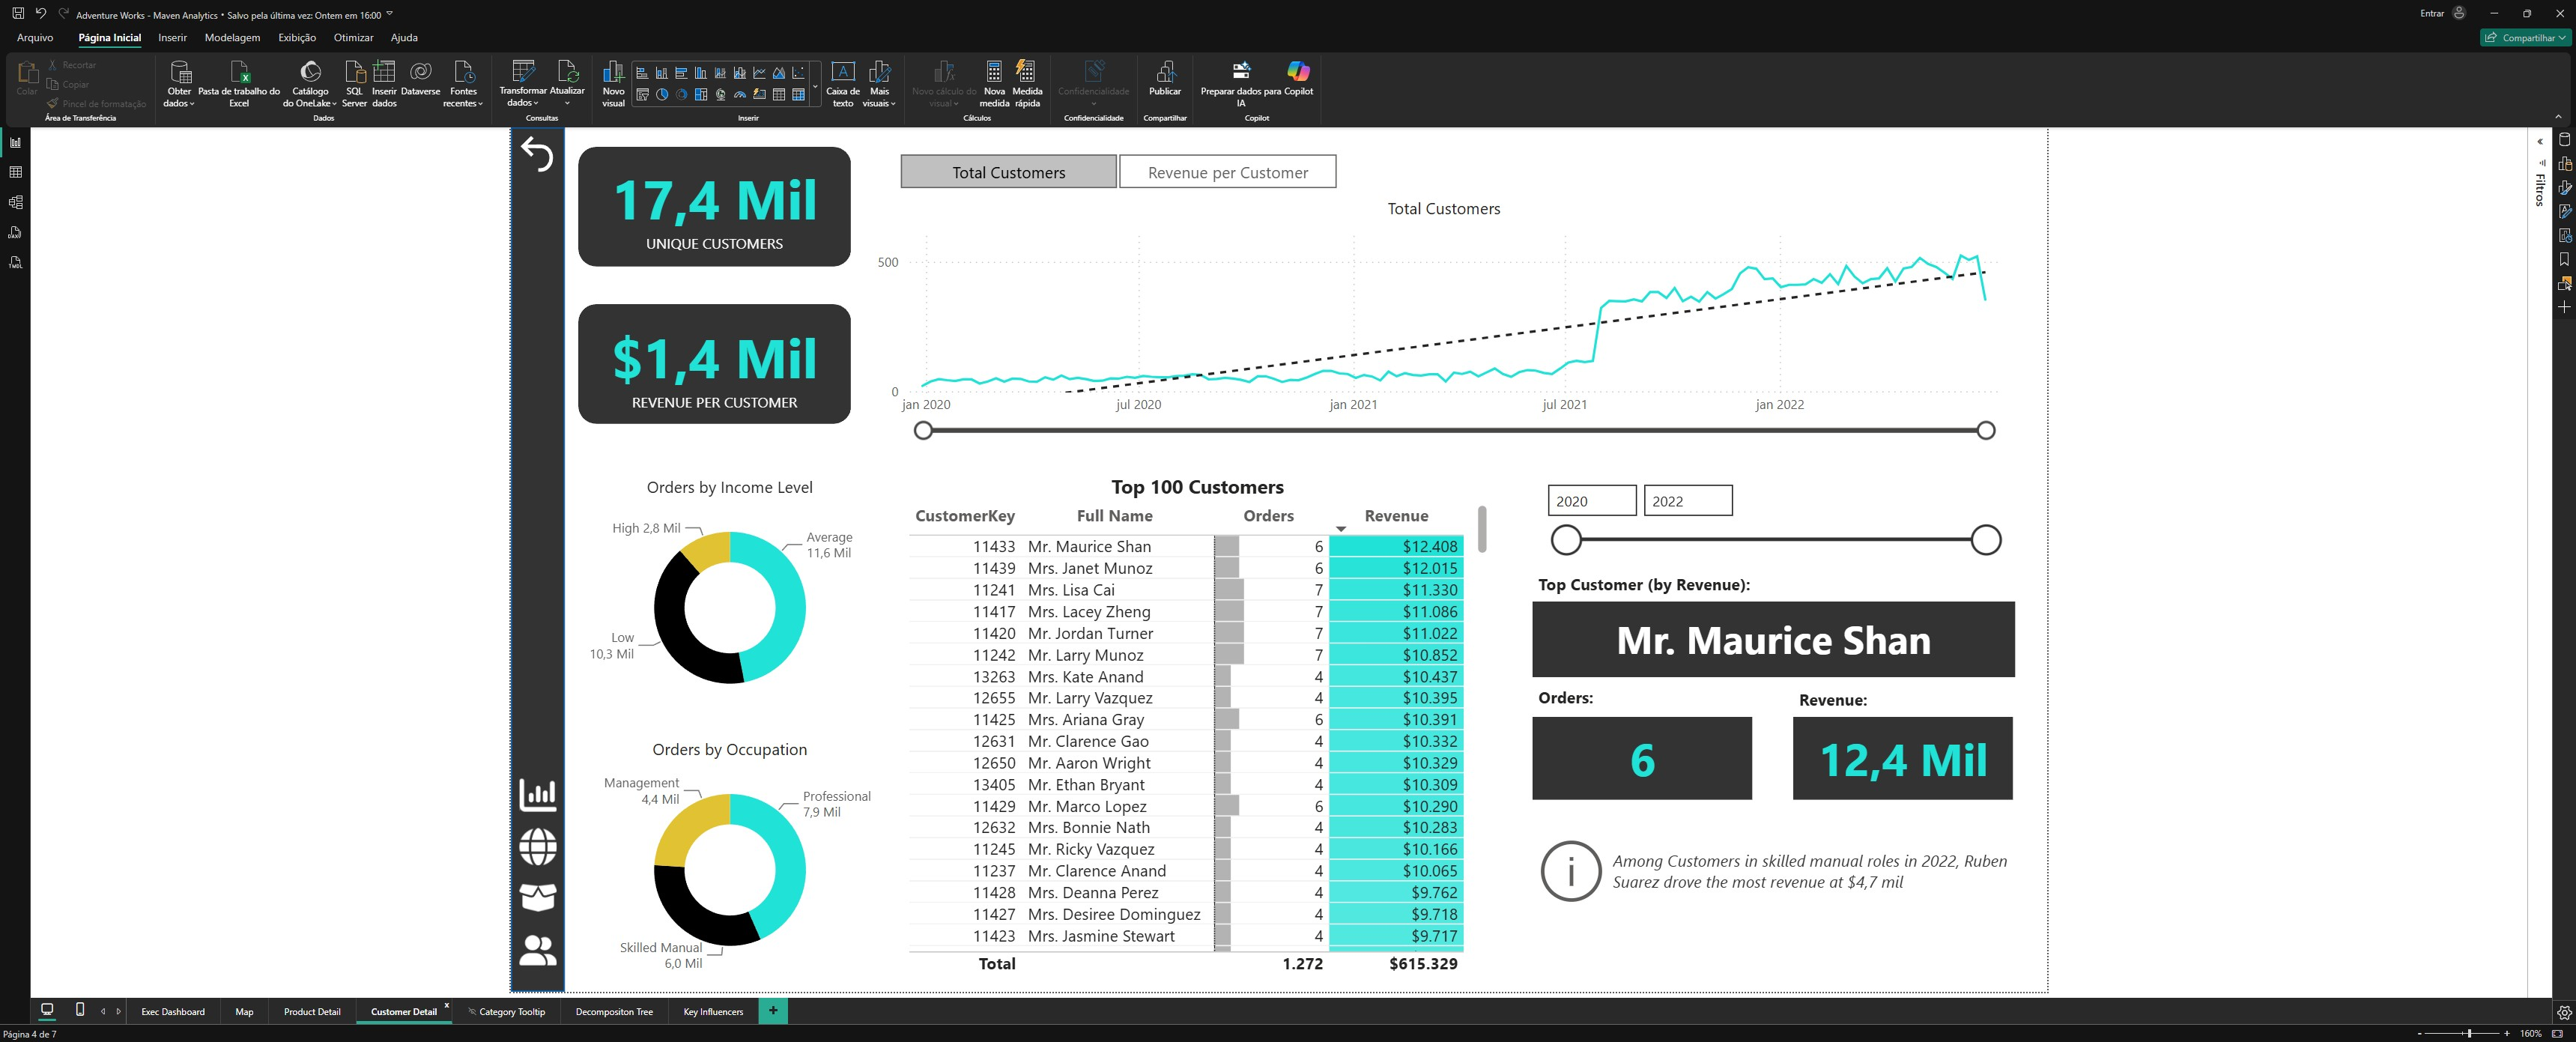

This screenshot's page, from the dashboard's own definition file:
{"tool":"powerbi","page":{"name":"Customer Detail","canvas":[1280,720],"ordinal":3},"visuals":[{"type":"shape","box":[55.9,16,227.4,99.8],"z":0},{"type":"actionButton","box":[3,536.7,42.4,39.3],"z":0,"group":"g1"},{"type":"shape","box":[55.9,147.2,227.4,99.8],"z":1000},{"type":"actionButton","box":[3,579.6,42.4,39.3],"z":1000,"group":"g1"},{"type":"card","fields":{"Values":["Measure Table (Inserir).Total Customers"]},"box":[55.9,16,227.4,99.8],"z":2000},{"type":"actionButton","box":[3,622.5,42.4,39.3],"z":2000,"group":"g1"},{"type":"shape","box":[0,0,45,720],"z":3000},{"type":"actionButton","box":[3,665.8,42.4,39.3],"z":3000,"group":"g1"},{"type":"card","fields":{"Values":["Measure Table (Inserir).Average Revenue per Customer"]},"box":[55.9,148.2,227.4,99.8],"z":4000},{"type":"lineChart","fields":{"Category":["Calendar Lookup.Ano Hierarquia.Ano","Calendar Lookup.Ano Hierarquia.Início do Mês","Calendar Lookup.Ano Hierarquia.Início da Semana","Calendar Lookup.Ano Hierarquia.Date"],"Y":["Measure Table (Inserir).Total Customers"]},"box":[298.8,57.6,955.3,207.1],"z":5000},{"type":"donutChart","title":"Orders by Income Level","fields":{"Category":["Customer Lookup.Income Level"],"Y":["Measure Table (Inserir).Total Orders"]},"box":[55,290.7,255.4,200.4],"z":6000},{"type":"donutChart","title":"Orders by Occupation","fields":{"Category":["Customer Lookup.Occupation"],"Y":["Measure Table (Inserir).Total Orders"]},"box":[55,509.4,255.4,200.4],"z":7000},{"type":"tableEx","title":"Top 100 Customers","fields":{"Values":["Customer Lookup.CustomerKey","Customer Lookup.Full Name","Measure Table (Inserir).Total Orders","Measure Table (Inserir).Total Revenue"]},"box":[325.9,288.2,492.9,421.2],"z":8000},{"type":"card","fields":{"Values":["Measure Table (Inserir).Full Name Customer Detail"]},"box":[850.8,395.1,402.1,63.5],"z":9000},{"type":"card","fields":{"Values":["Measure Table (Inserir).Total Revenue (Customer Detail)"]},"box":[1068.1,491,183.4,69.1],"z":10000},{"type":"card","fields":{"Values":["Measure Table (Inserir).Total Orders (Customer Detail)"]},"box":[850.8,491,183.4,69.1],"z":11000},{"type":"textbox","box":[850.8,366.8,195.3,38.8],"z":12000},{"type":"textbox","box":[1068.1,462.8,183.4,39.5],"z":13000},{"type":"textbox","box":[850.8,461.4,183.4,39.5],"z":14000},{"type":"slicer","fields":{"Values":["Calendar Lookup.Ano"]},"box":[850.8,287.8,399.3,79],"z":15000},{"type":"actionButton","box":[850.8,587,428.9,64.9],"z":16000},{"type":"actionButton","box":[2.2,2.2,42.3,40.1],"z":17000},{"type":"group","id":"g1","title":"Navigation Buttons","box":[3,536.7,42.4,168.5],"z":18000},{"type":"slicer","fields":{"Values":["Customer Metric Selection.Customer Metric Selection"]},"box":[298.8,15.3,412.9,42.4],"z":20000}]}

Visuals, with their boxes on the page's 1280x720 design canvas (x1, y1, x2, y2). These are canvas units, not pixel positions in the 2576x1042 screenshot, which may show the page scaled, cropped or inside an application window:
shape: 56/16/283/116
actionButton: 3/537/45/576
shape: 56/147/283/247
actionButton: 3/580/45/619
card - Measure Table (Inserir).Total Customers: 56/16/283/116
actionButton: 3/622/45/662
shape: 0/0/45/720
actionButton: 3/666/45/705
card - Measure Table (Inserir).Average Revenue per Customer: 56/148/283/248
lineChart - Calendar Lookup.Ano Hierarquia.Ano x Calendar Lookup.Ano Hierarquia.Início do Mês: 299/58/1254/265
"Orders by Income Level" donutChart: 55/291/310/491
"Orders by Occupation" donutChart: 55/509/310/710
"Top 100 Customers" tableEx: 326/288/819/709
card - Measure Table (Inserir).Full Name Customer Detail: 851/395/1253/459
card - Measure Table (Inserir).Total Revenue (Customer Detail): 1068/491/1252/560
card - Measure Table (Inserir).Total Orders (Customer Detail): 851/491/1034/560
textbox: 851/367/1046/406
textbox: 1068/463/1252/502
textbox: 851/461/1034/501
slicer - Calendar Lookup.Ano: 851/288/1250/367
actionButton: 851/587/1280/652
actionButton: 2/2/44/42
"Navigation Buttons" group: 3/537/45/705
slicer - Customer Metric Selection.Customer Metric Selection: 299/15/712/58
